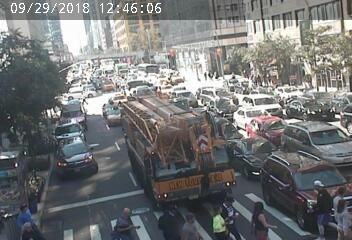car: (132, 98, 221, 196), (273, 146, 328, 200), (294, 122, 333, 145), (62, 143, 90, 172), (237, 139, 270, 159), (252, 116, 284, 135), (292, 99, 319, 118), (104, 104, 125, 127), (249, 91, 276, 106), (206, 88, 231, 104), (235, 108, 265, 120), (56, 125, 80, 139), (66, 107, 84, 122), (81, 87, 95, 96), (115, 61, 126, 72), (140, 62, 154, 69), (171, 75, 183, 83), (113, 91, 122, 101), (284, 86, 295, 94), (103, 80, 110, 89), (72, 81, 80, 88)
